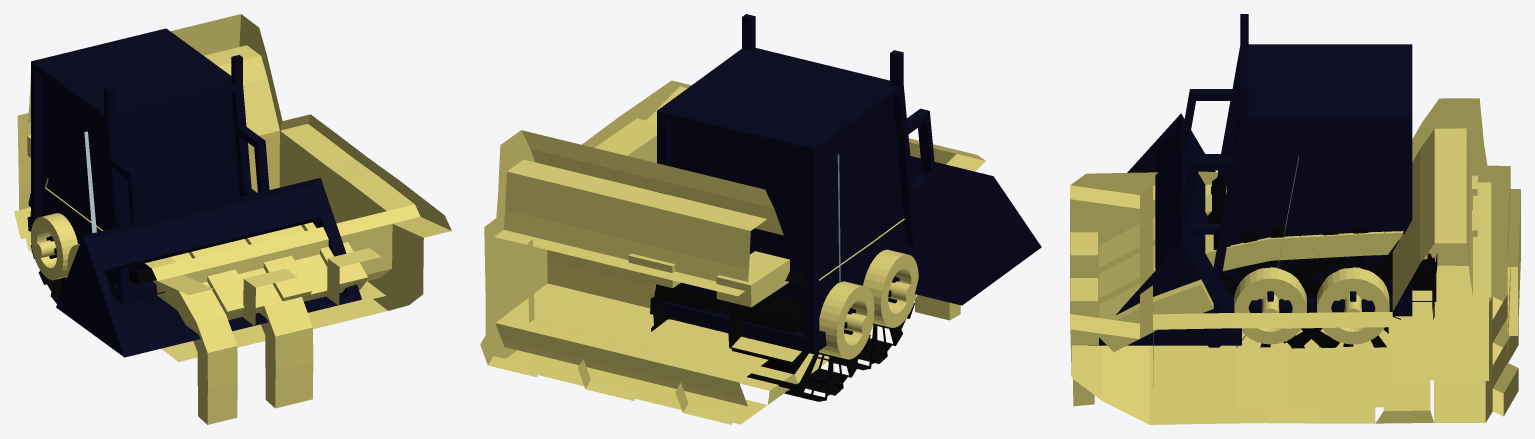
The model's file is engineer1.glb.
3 views of the same model, side by side, from view 1: azimuth 30°, elevation 25°; view 2: azimuth 150°, elevation 25°; view 3: azimuth 270°, elevation 25° (orthographic). The views are drawn at different scales.
Visible parts, largest first — view 1: Cube.001, Cube, Plane, Plane.001, Plane.002, Cylinder, Plane.003, Circle, Circle.001; view 2: Cube, Cube.001, Plane, Circle, Cylinder, Cylinder.009, Plane.001, Circle.003, Circle.001, Plane.002; view 3: Cube, Cube.001, Plane, Plane.001, Plane.002, Cylinder.019, Cylinder.010, Circle.003, Circle.002, Circle.001.
Part boxes in pixels (left/top/right/bottom): Cube.001: left=31, top=28, right=269, bottom=303; Cube: left=14, top=14, right=451, bottom=361; Plane: left=56, top=178, right=361, bottom=357; Plane.001: left=27, top=135, right=367, bottom=424; Plane.002: left=259, top=297, right=313, bottom=408; Cylinder: left=31, top=213, right=77, bottom=280; Plane.003: left=84, top=131, right=96, bottom=233; Circle: left=27, top=193, right=66, bottom=303; Circle.001: left=128, top=267, right=164, bottom=298; Cube: left=480, top=80, right=985, bottom=424; Cube.001: left=657, top=14, right=934, bottom=354; Plane: left=904, top=156, right=1041, bottom=305; Circle: left=728, top=271, right=870, bottom=401; Cylinder: left=819, top=281, right=874, bottom=359; Cylinder.009: left=863, top=249, right=918, bottom=327; Plane.001: left=716, top=251, right=960, bottom=320; Circle.003: left=650, top=284, right=729, bottom=331; Circle.001: left=812, top=303, right=914, bottom=370; Plane.002: left=628, top=253, right=680, bottom=288; Cube: left=1070, top=98, right=1520, bottom=424; Cube.001: left=1179, top=14, right=1412, bottom=316; Plane: left=1088, top=113, right=1241, bottom=345; Plane.001: left=1098, top=175, right=1477, bottom=351; Plane.002: left=1073, top=209, right=1477, bottom=406; Cylinder.019: left=1317, top=267, right=1389, bottom=344; Cylinder.010: left=1234, top=267, right=1306, bottom=344; Circle.003: left=1281, top=227, right=1436, bottom=347; Circle.002: left=1208, top=214, right=1339, bottom=348; Circle.001: left=1207, top=172, right=1228, bottom=221.
Size of what is drawn, in the model's own units: 5.16 by 4.41 by 5.62.
